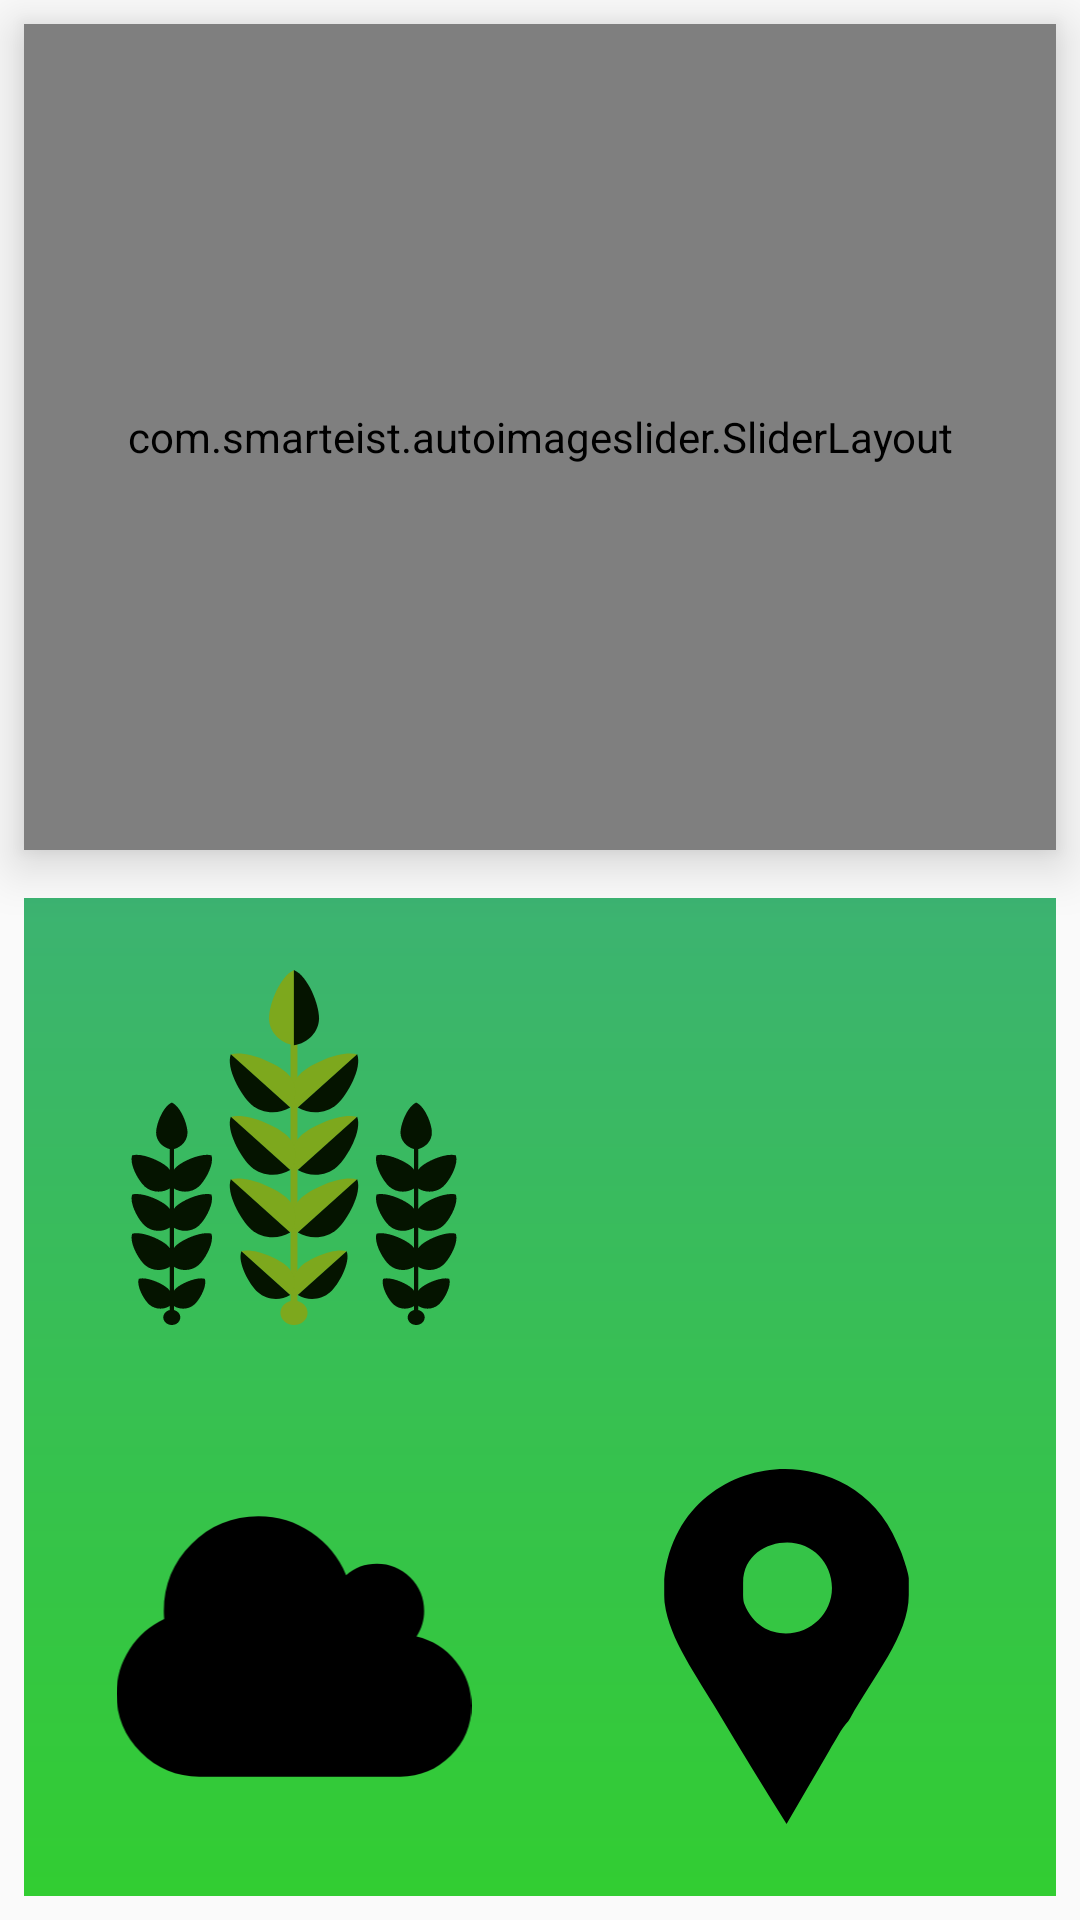

Screen size 1080x1920. Icon name, then its box in pixels as (x1, y1, x2, y2):
crop: (131, 970, 457, 1325)
location: (664, 1469, 909, 1824)
weather: (117, 1516, 472, 1777)
